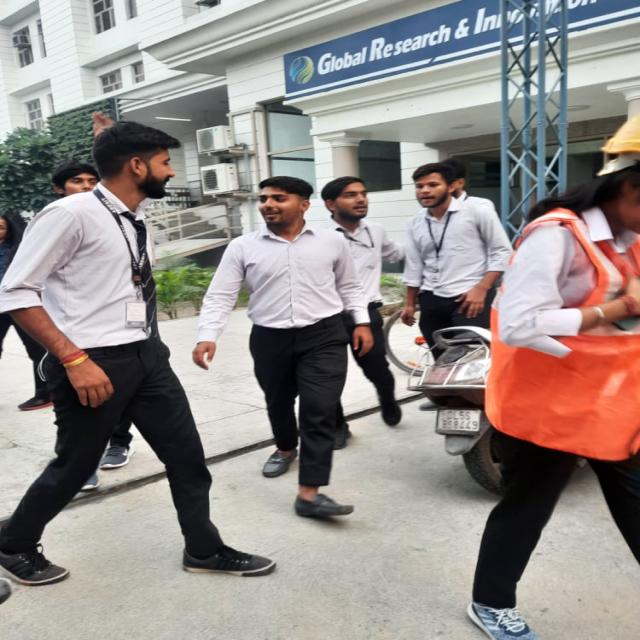unsafe: (8, 126, 275, 584), (207, 176, 380, 518), (318, 177, 416, 429), (404, 163, 507, 357)
